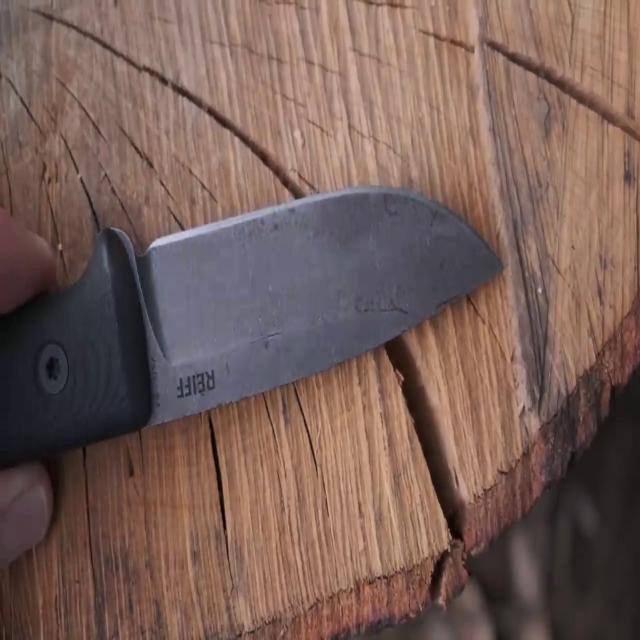Knife: (3, 169, 502, 480)
